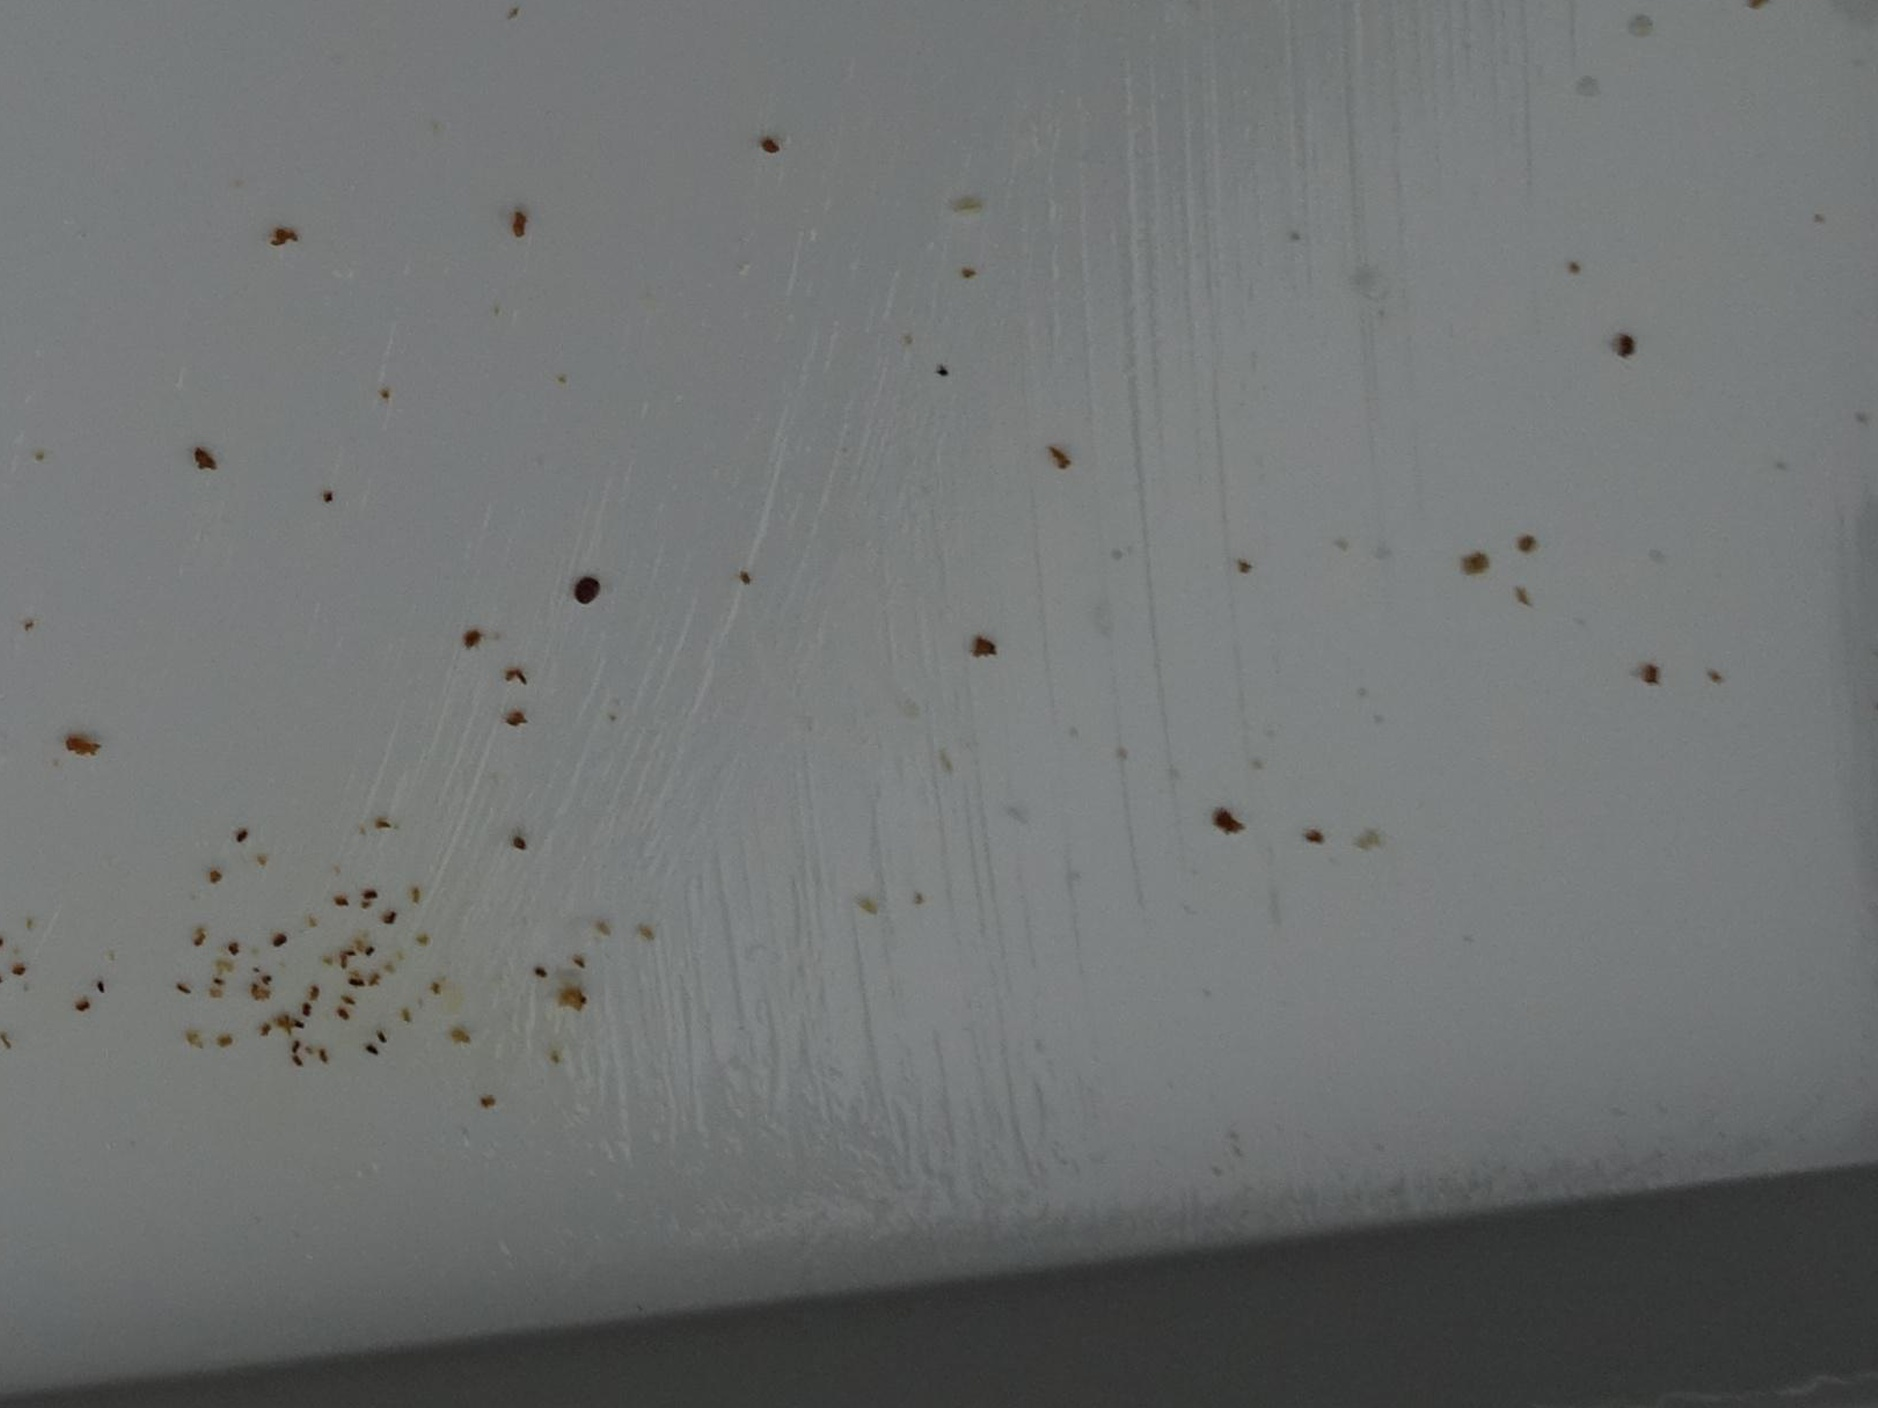Varroa: (575, 574, 596, 598)
